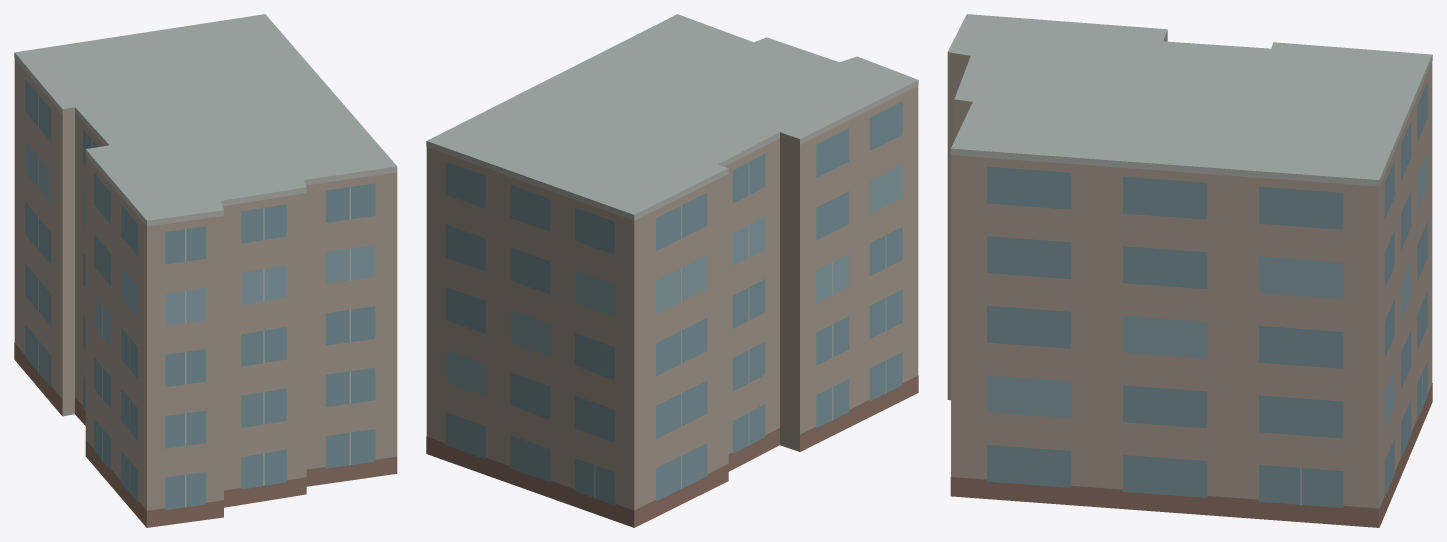
The model's file is survey-upis-32740803.glb.
The picture shows the model from 3 angles, left to right: view 1: azimuth 30°, elevation 25°; view 2: azimuth 150°, elevation 25°; view 3: azimuth 270°, elevation 25°; orthographic projection. The views are drawn at different scales.
Parts seen in each view (by area): view 1: survey-upis-32740803.tmp; view 2: survey-upis-32740803.tmp; view 3: survey-upis-32740803.tmp.
Boxes of the visible parts, <box> form: survey-upis-32740803.tmp: <box>14,14,397,527</box>; survey-upis-32740803.tmp: <box>426,14,918,527</box>; survey-upis-32740803.tmp: <box>947,14,1432,527</box>.
Bounding box in the file's own units: 13.33 × 13 × 16.44.
